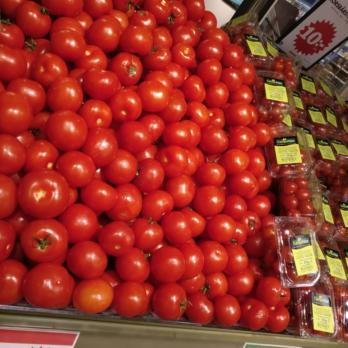Tomato: (0, 2, 251, 322)
